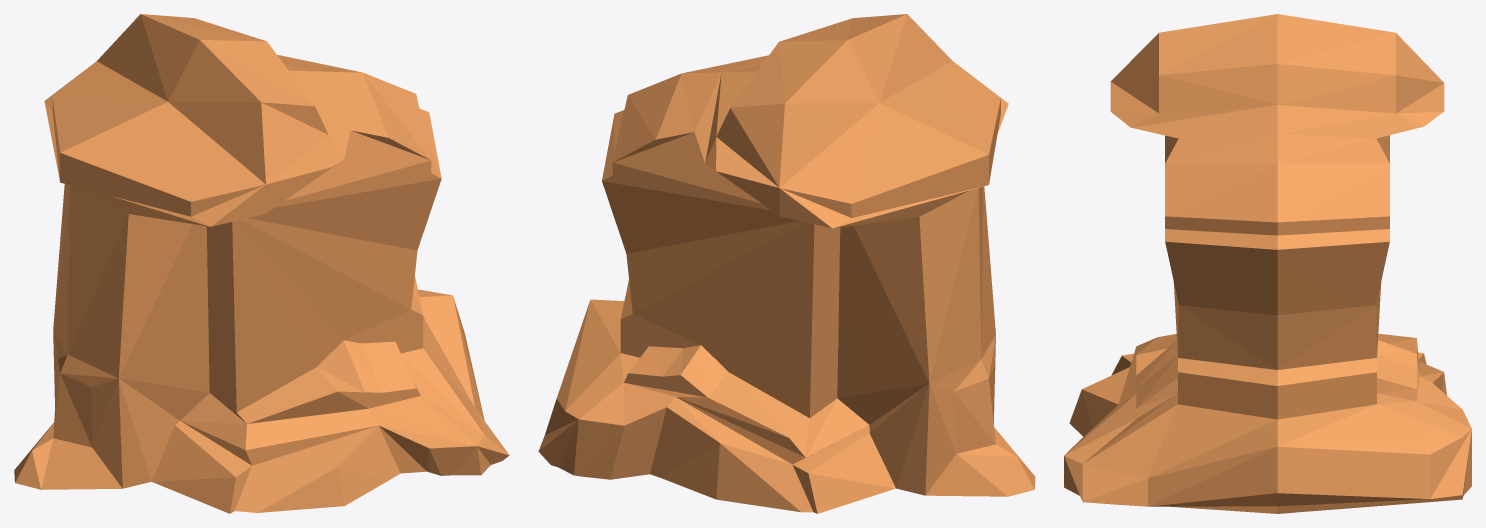
Rendered from Rock_Large_Canyon_Eroded_15.FBX.
The picture shows the model from 3 angles, left to right: view 1: azimuth 30°, elevation 25°; view 2: azimuth 150°, elevation 25°; view 3: azimuth 270°, elevation 25°; orthographic projection. The views are drawn at different scales.
Parts seen in each view (by area): view 1: Rock_Large_Canyon_Eroded_15; view 2: Rock_Large_Canyon_Eroded_15; view 3: Rock_Large_Canyon_Eroded_15.
Boxes of the visible parts, x1,y1,x2,y2 form: Rock_Large_Canyon_Eroded_15: (14,14,509,513); Rock_Large_Canyon_Eroded_15: (538,14,1035,513); Rock_Large_Canyon_Eroded_15: (1064,14,1471,513).
Size of the model in its own units: 15585 by 13173 by 12462.
